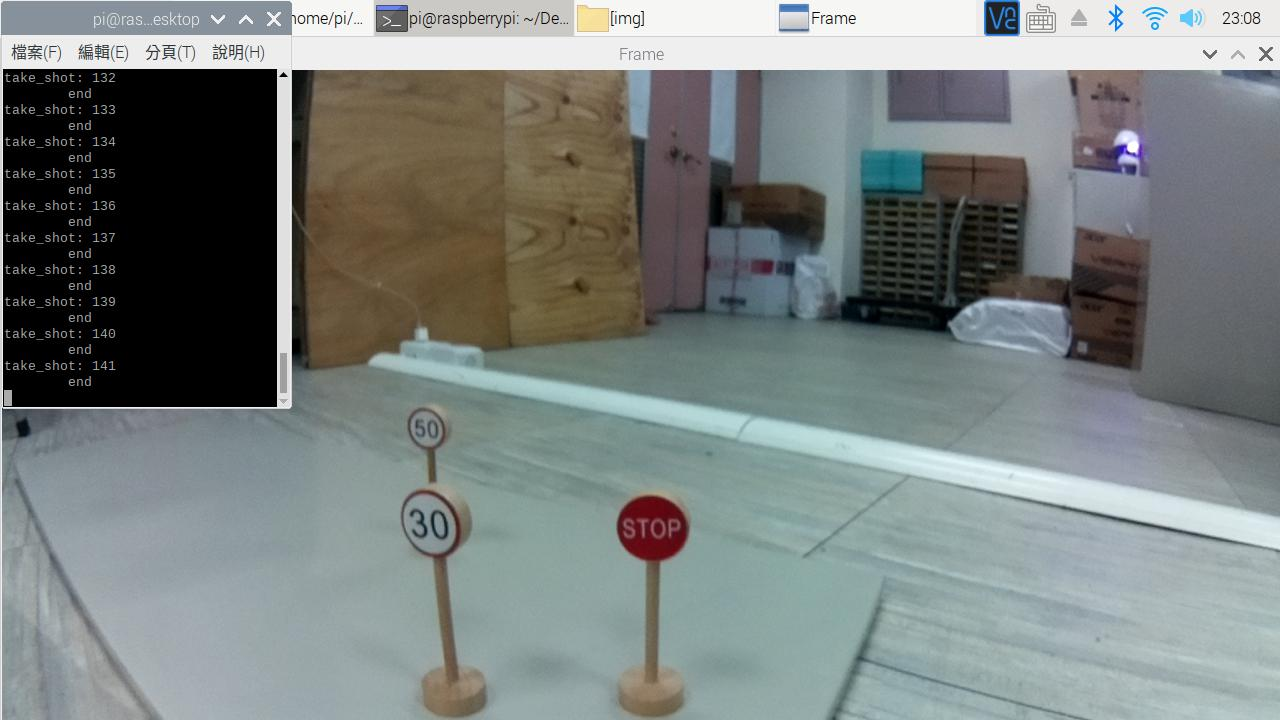Speed30: (385, 475, 489, 566)
Speed50: (396, 399, 464, 455)
Stop: (611, 478, 708, 574)
